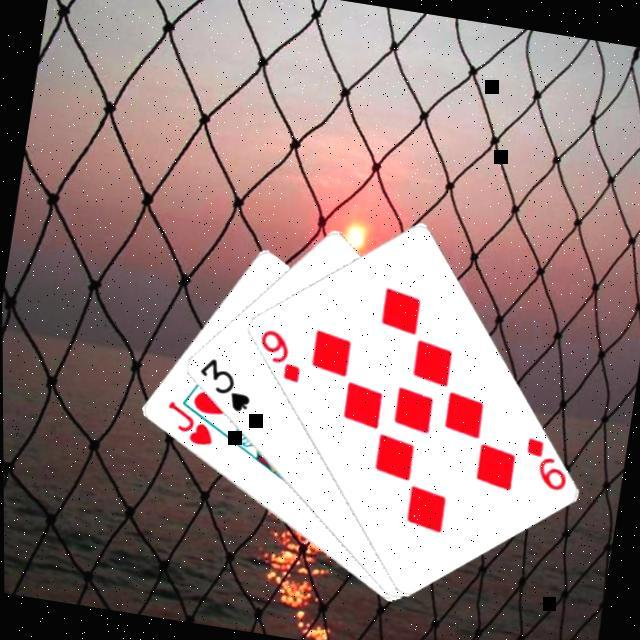3S: (188, 351, 256, 415)
9D: (248, 323, 306, 384), (514, 432, 572, 493)
JH: (156, 395, 217, 448)
